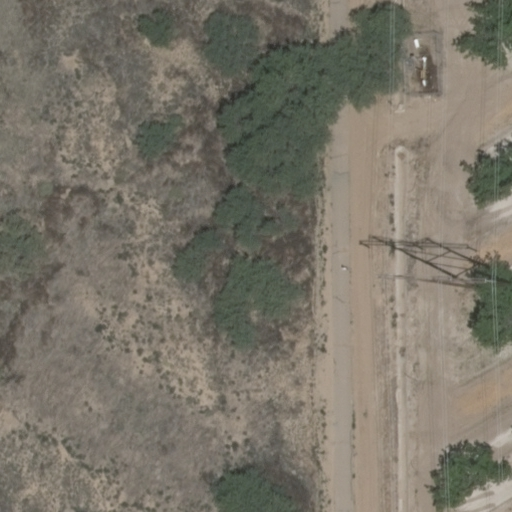DT: (398, 266, 508, 299)
